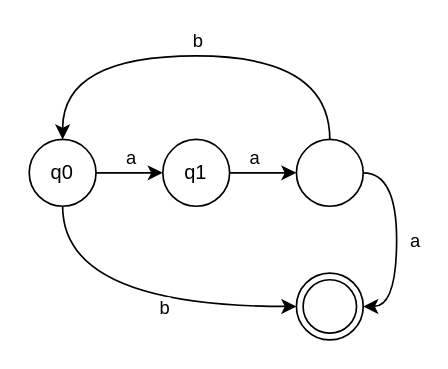
Some shapes in this 448 by 369 pixel diagram are drawn without their labels. The shapes that lost their labels are listed below. From the top down, each one's box as (x1, y1, x2, y2) in pixels, then its label:
(295, 138, 363, 206): q2
(295, 271, 363, 340): q3
